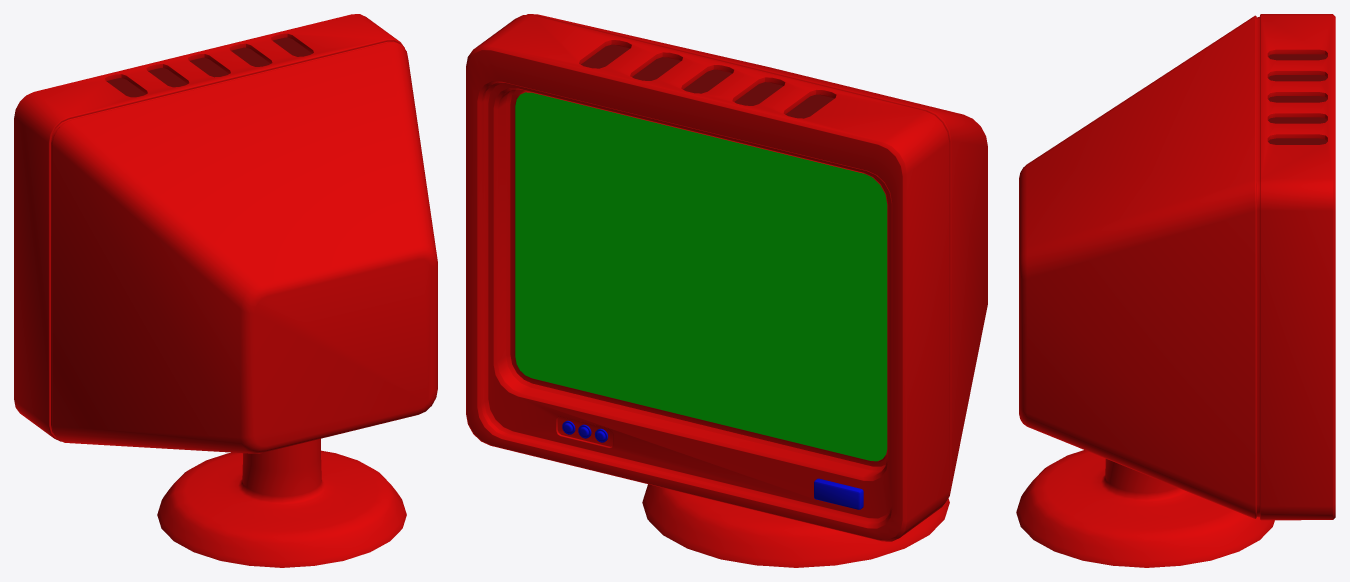
File: Computer Monitor.fbx
3 renders of one model, left to right at view 1: azimuth 30°, elevation 25°; view 2: azimuth 150°, elevation 25°; view 3: azimuth 270°, elevation 25°, orthographic. The views are drawn at different scales.
Parts seen in each view (by area): view 1: Computer Monitor; view 2: Computer Monitor; view 3: Computer Monitor.
Boxes of the visible parts, bbox=[...] form: Computer Monitor: bbox=[14, 14, 437, 567]; Computer Monitor: bbox=[466, 14, 987, 567]; Computer Monitor: bbox=[1016, 14, 1335, 567].
Bounding box in the file's own units: 100 × 73.92 × 107.
